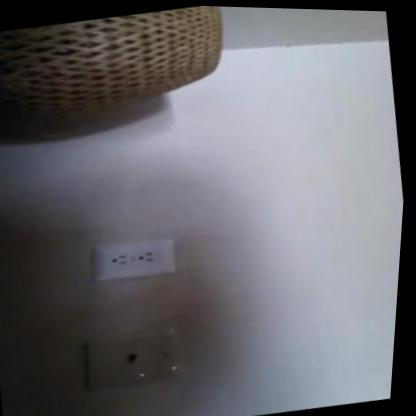OUTLET: (90, 234, 177, 283)
